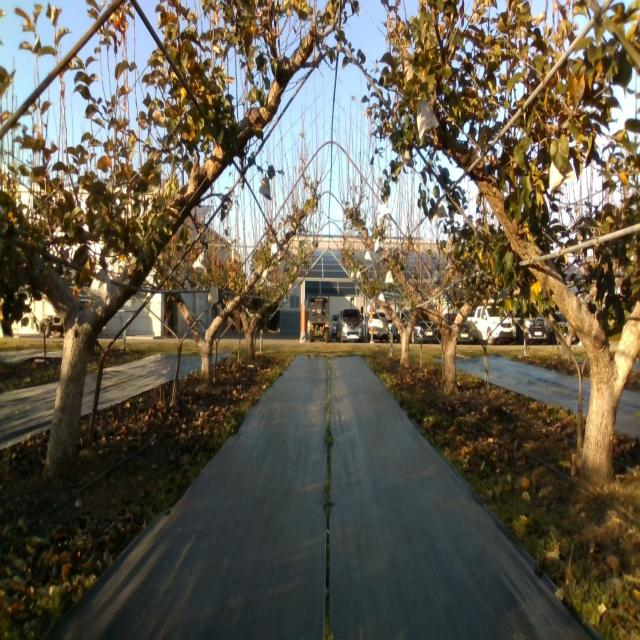pearbags: (546, 159, 574, 194), (416, 99, 439, 140), (88, 267, 110, 304), (258, 173, 272, 201), (192, 250, 207, 276), (433, 200, 448, 220)
